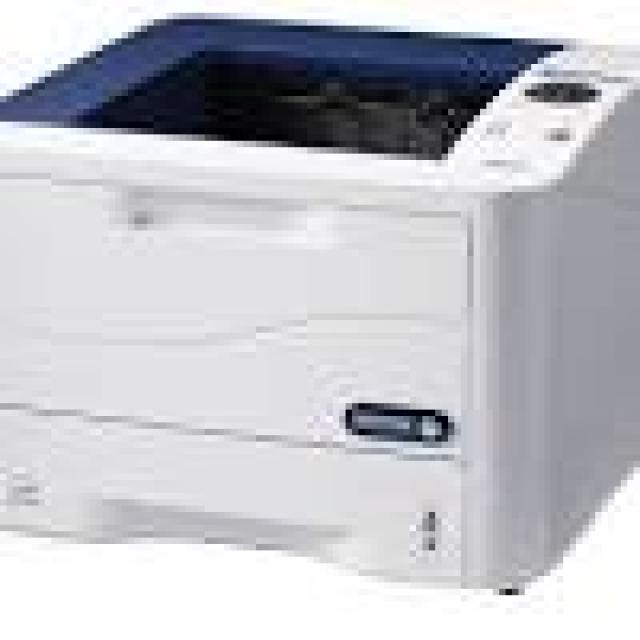printer: (0, 0, 640, 595)
